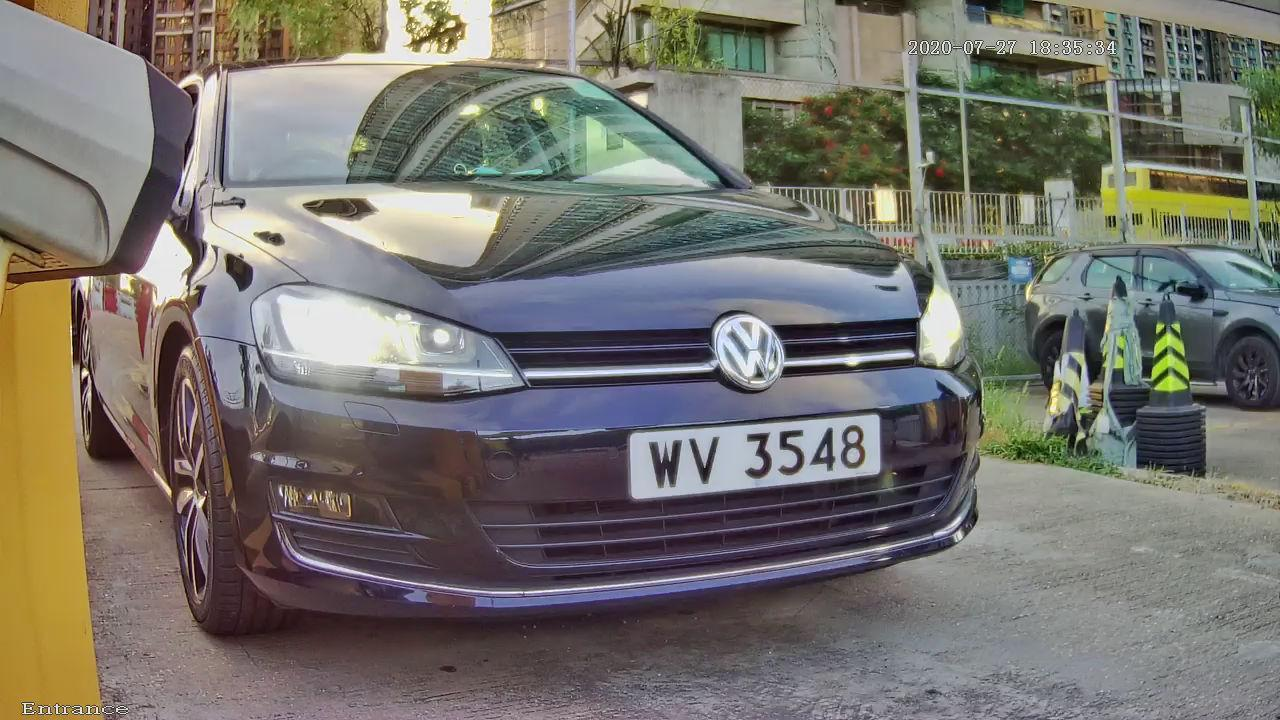privatecar: (58, 26, 1115, 656)
